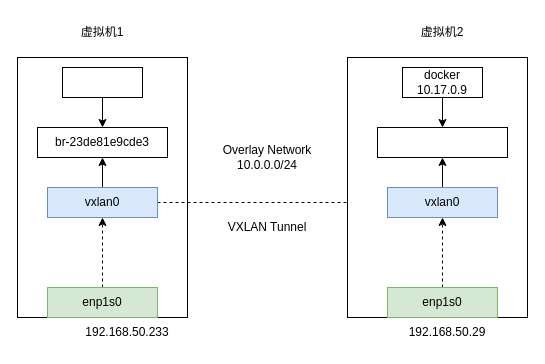
Image size: 545x364. Some labels were removed from this diagram. Here are the shapes that lost their labels. From the top down, the centre of each, then its label:
At (102,82): "docker 10.17.0.8".
At (442,142): "br-e4c356e71cd0".
